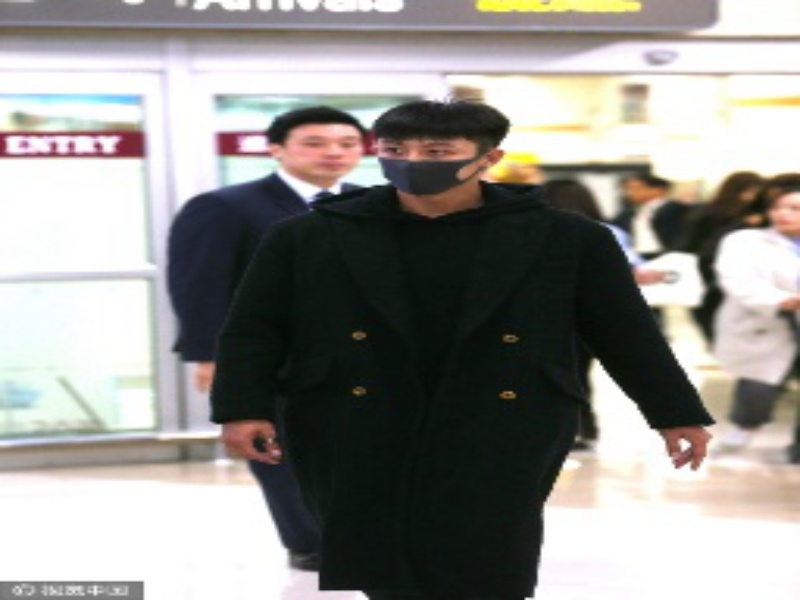ManaoArotava: (373, 104, 498, 213)
TsisyArotava: (260, 87, 378, 212)
